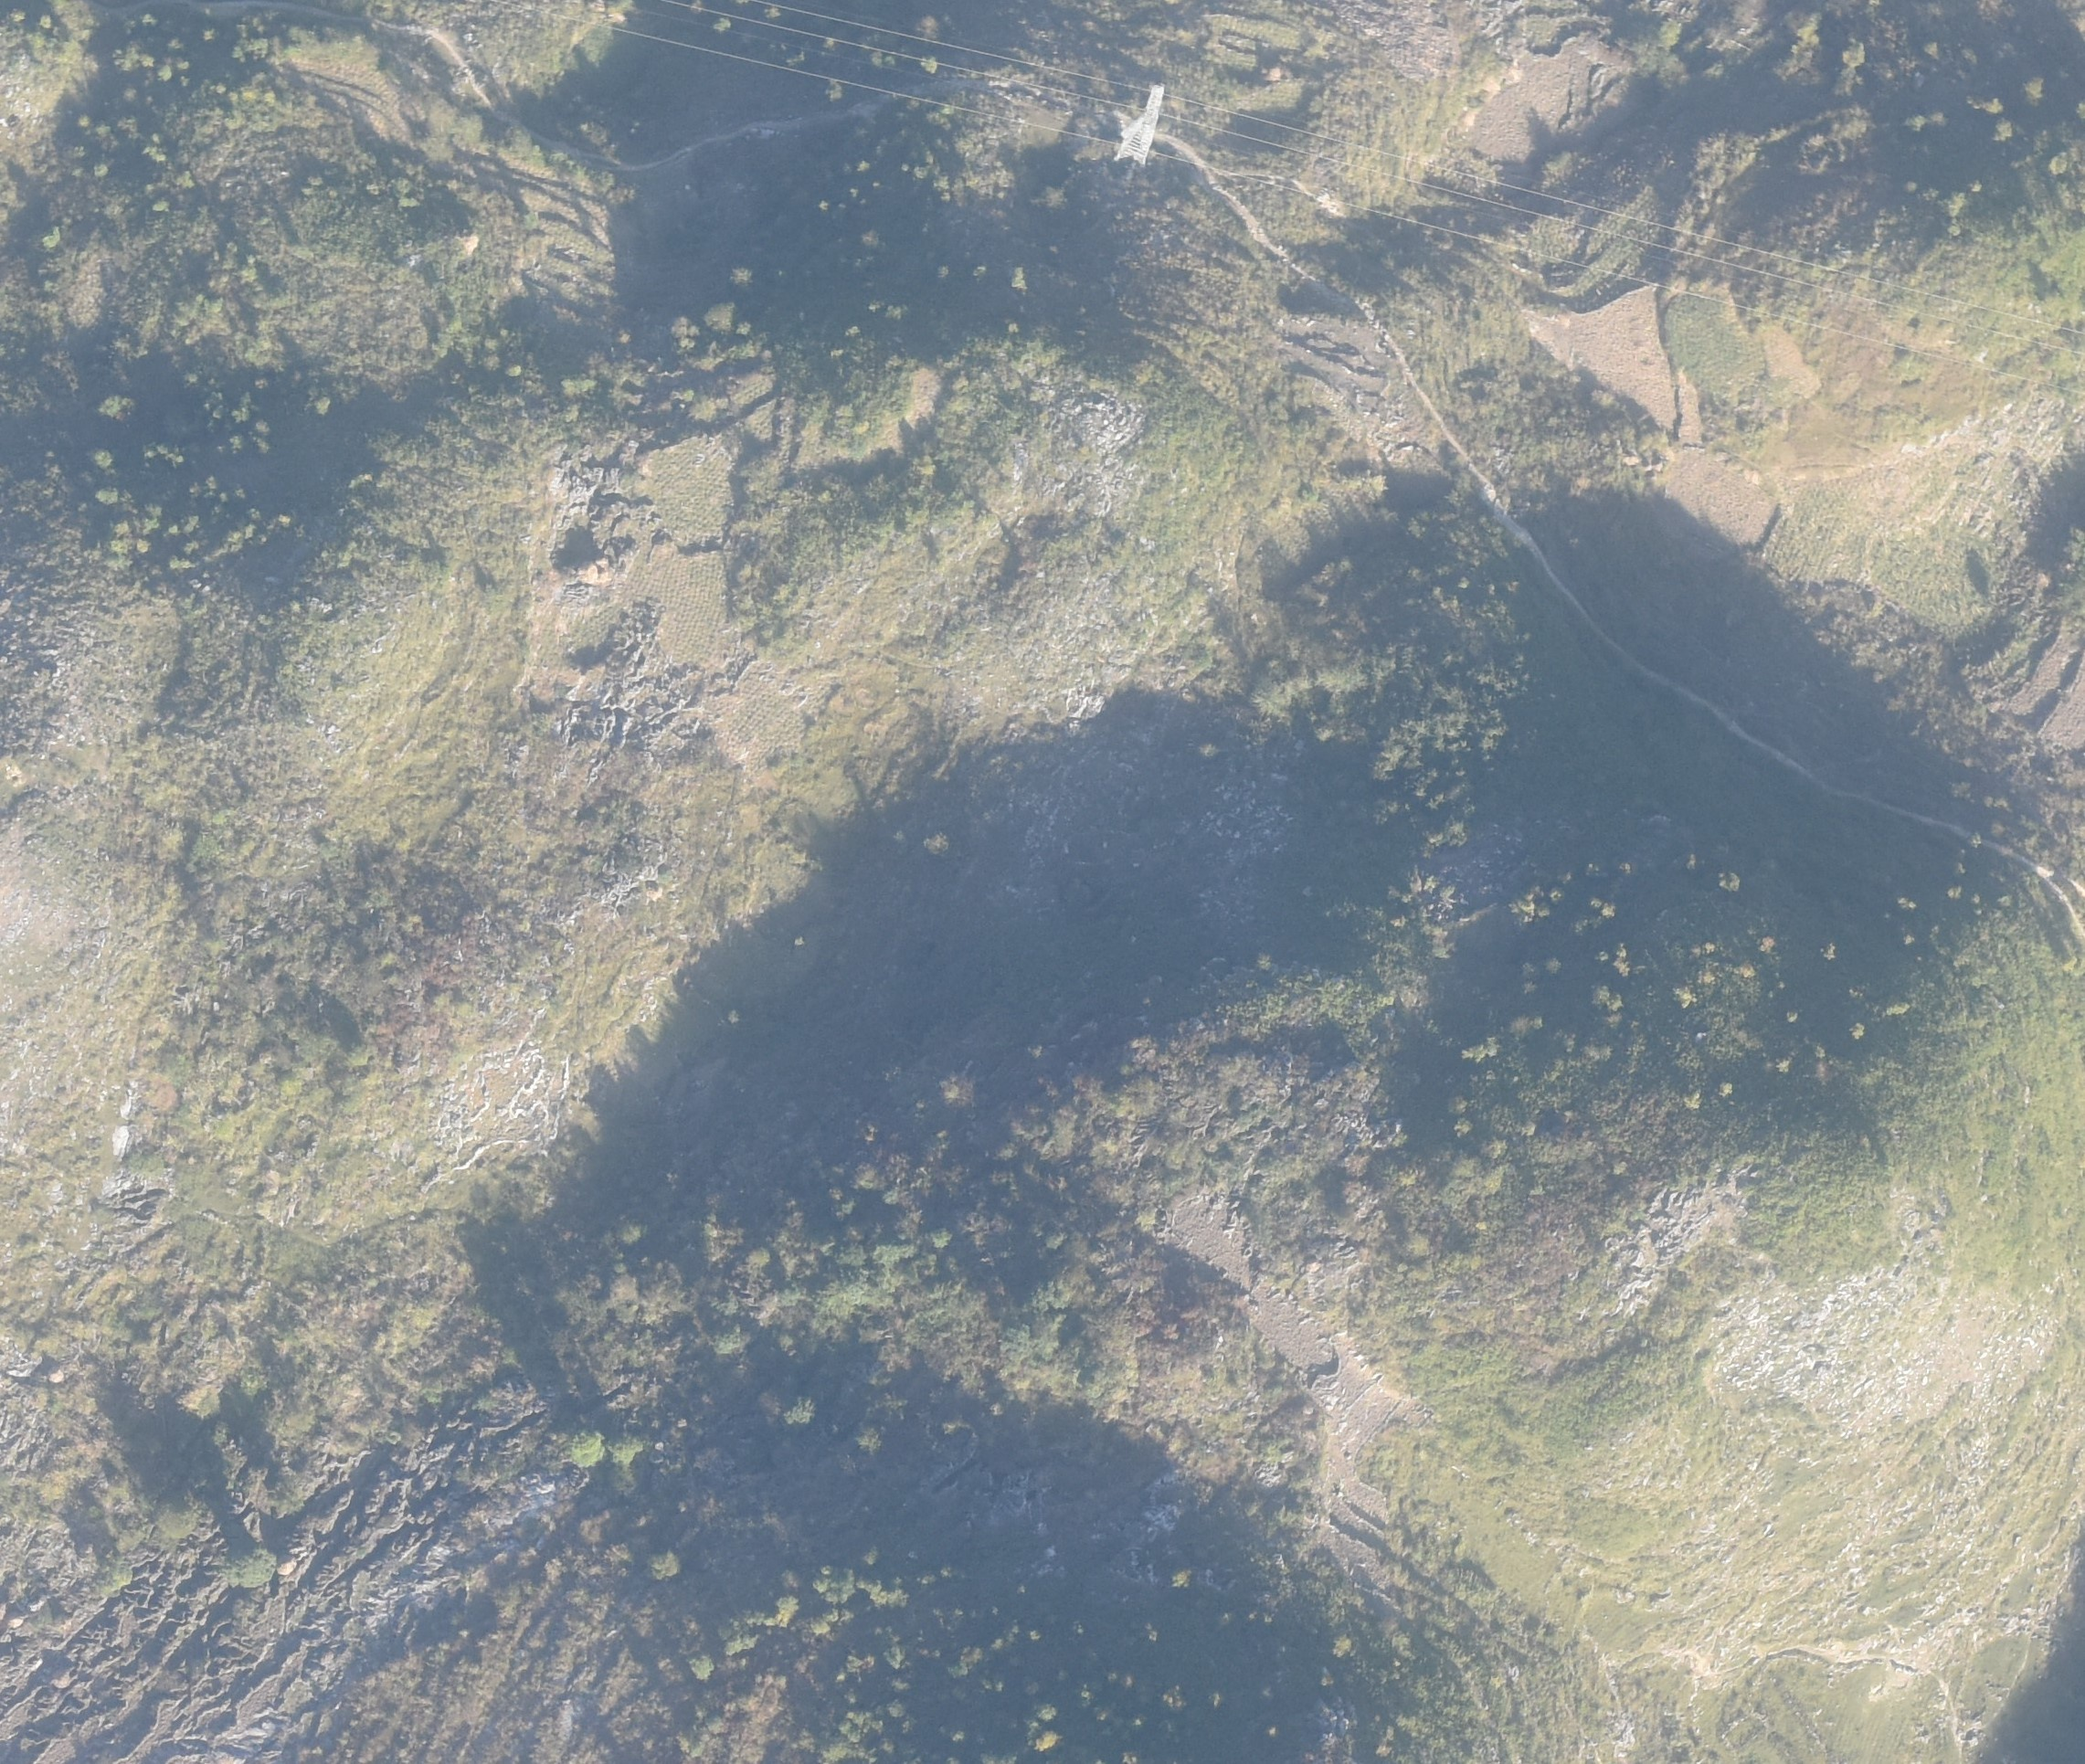cable-tower: (1099, 75, 1178, 175)
